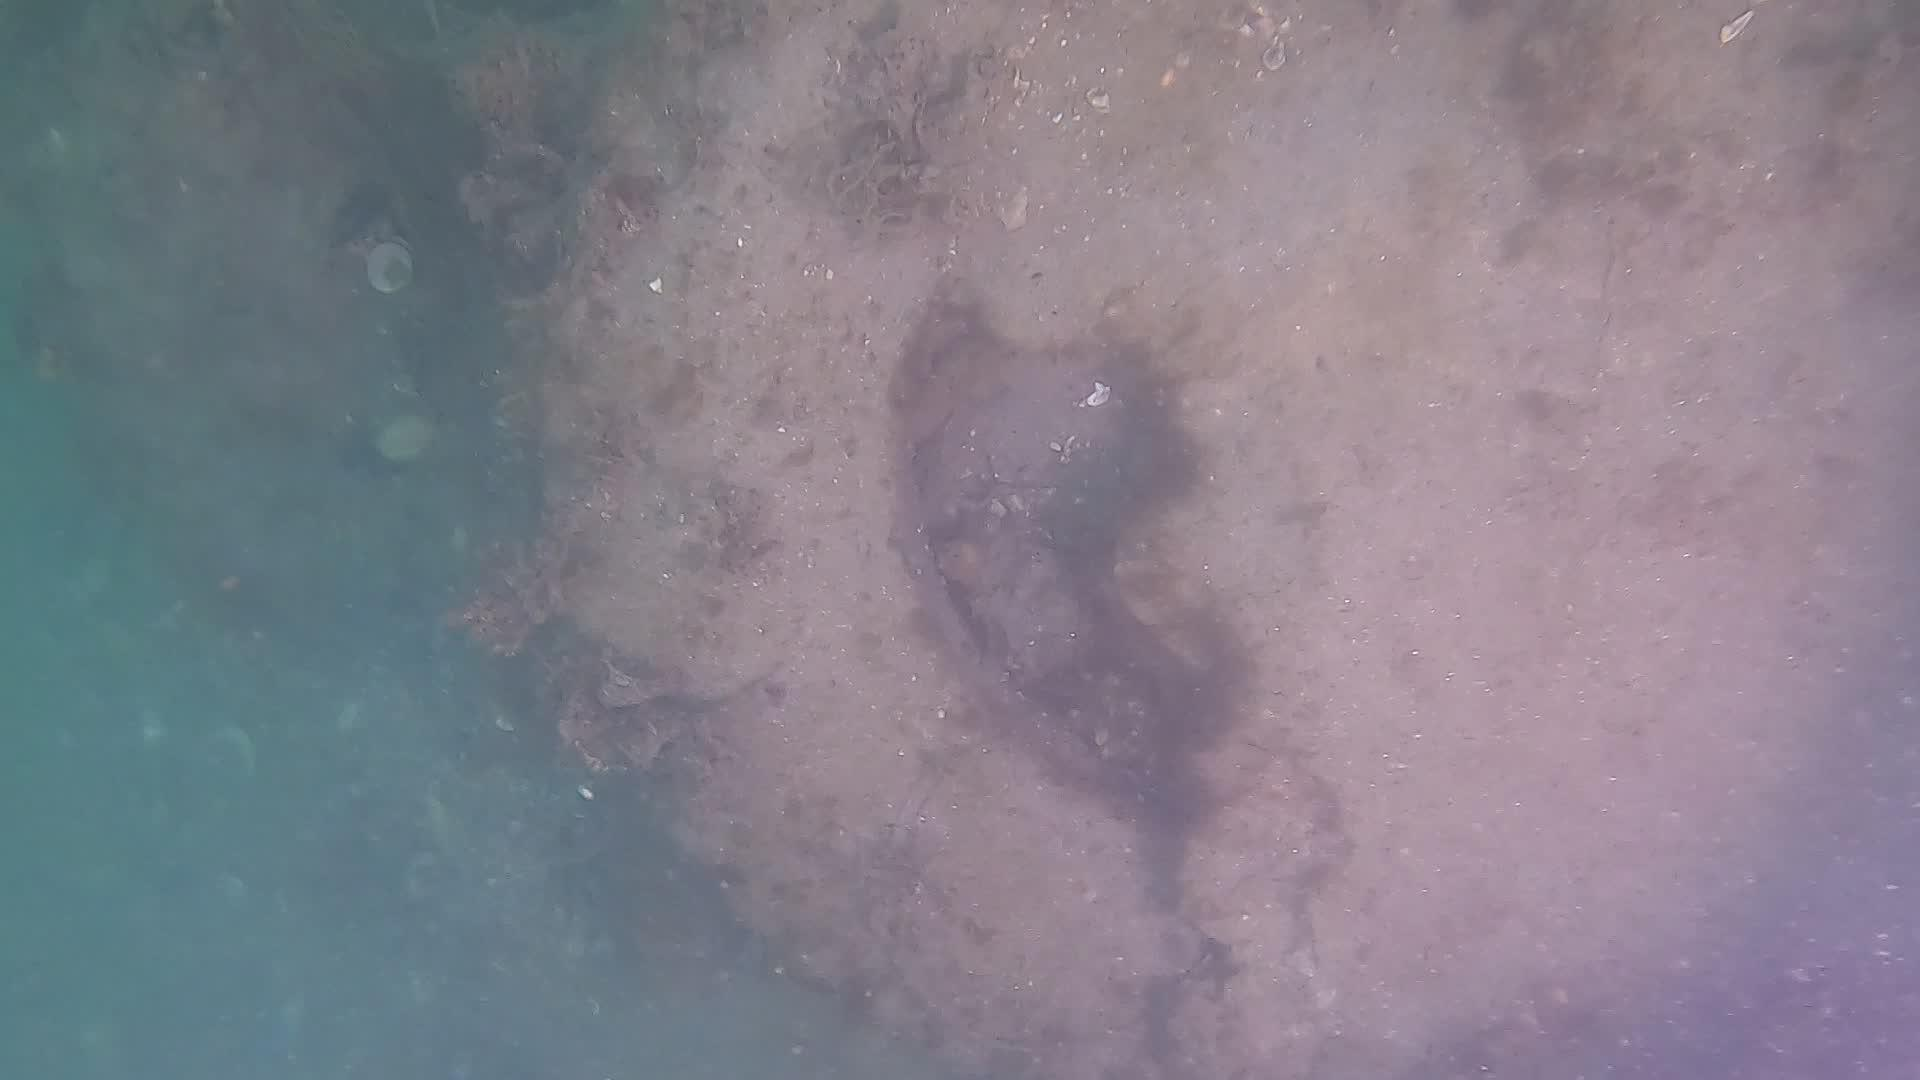tire: (531, 0, 1174, 1080)
